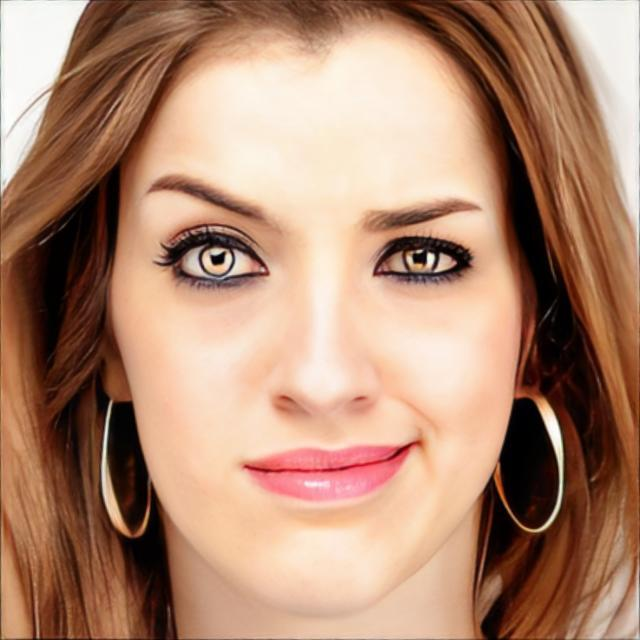content: (108, 14, 527, 616)
